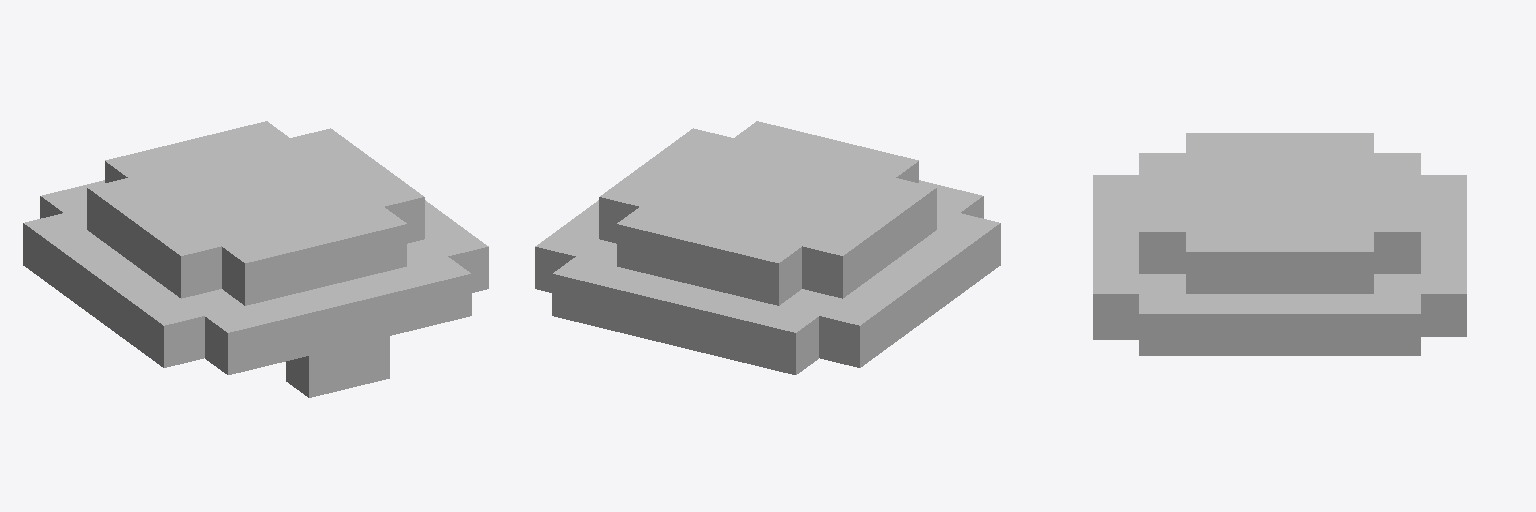
Rendered from 04_cave_pole_top_8X.obj.
3 views of the same model, side by side, from view 1: azimuth 30°, elevation 25°; view 2: azimuth 150°, elevation 25°; view 3: azimuth 270°, elevation 25° (orthographic).
Bounding box in the file's own units: 8 × 3 × 8.